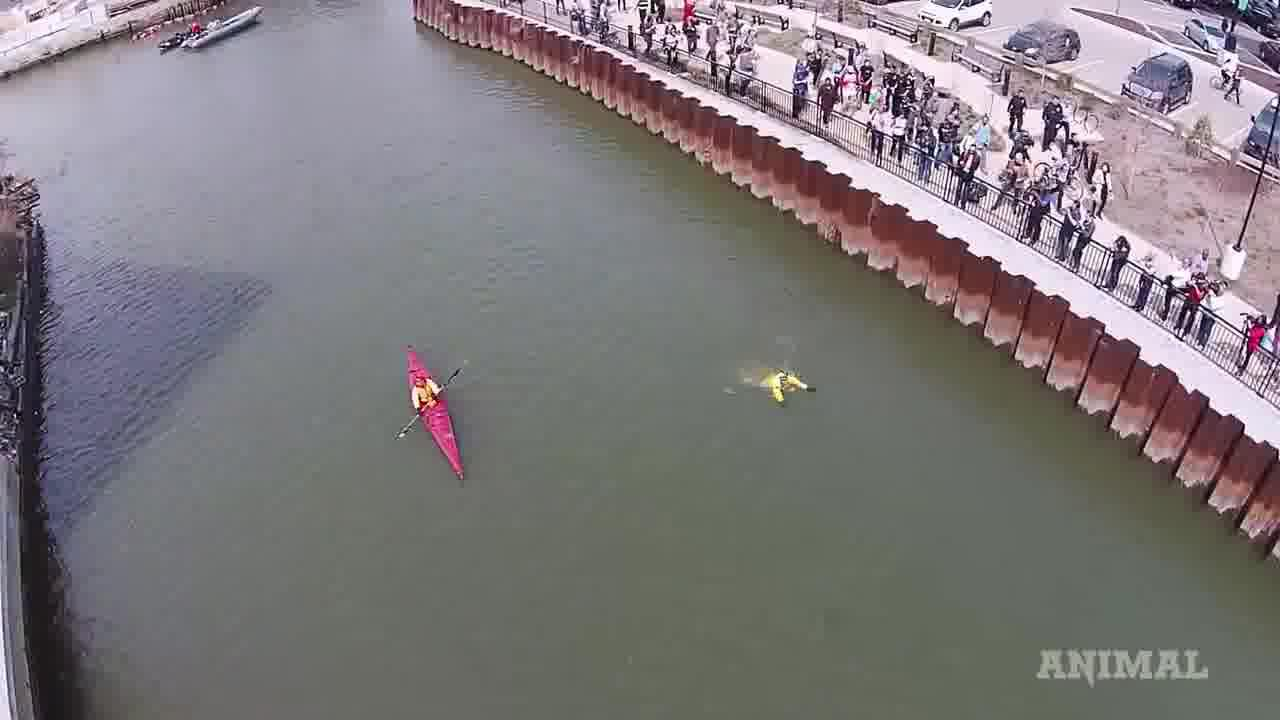human: (750, 351, 810, 409)
